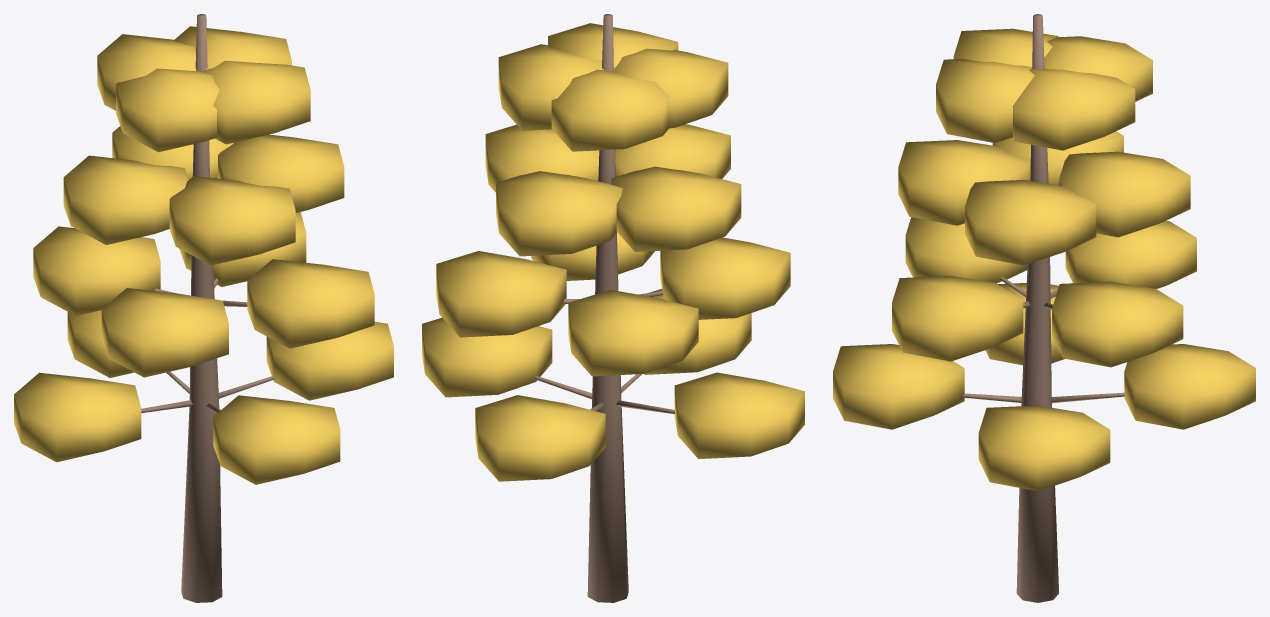
Rendered from tree_golden_larch.glb.
3 renders of one model, left to right at view 1: azimuth 30°, elevation 25°; view 2: azimuth 150°, elevation 25°; view 3: azimuth 270°, elevation 25°, orthographic.
Parts seen in each view (by area): view 1: Flora_Golden_Larch; view 2: Flora_Golden_Larch; view 3: Flora_Golden_Larch.
Part boxes in pixels (x1,y1,x2,y2): Flora_Golden_Larch: (14, 14, 393, 602); Flora_Golden_Larch: (422, 14, 804, 602); Flora_Golden_Larch: (833, 14, 1255, 602).
Size of the model in its own units: 6.97 by 10.5 by 6.97.
